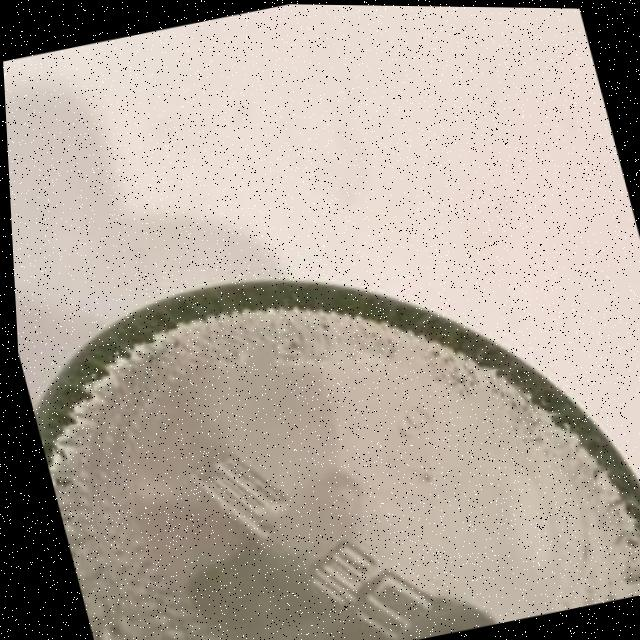glass: (7, 183, 640, 640)
